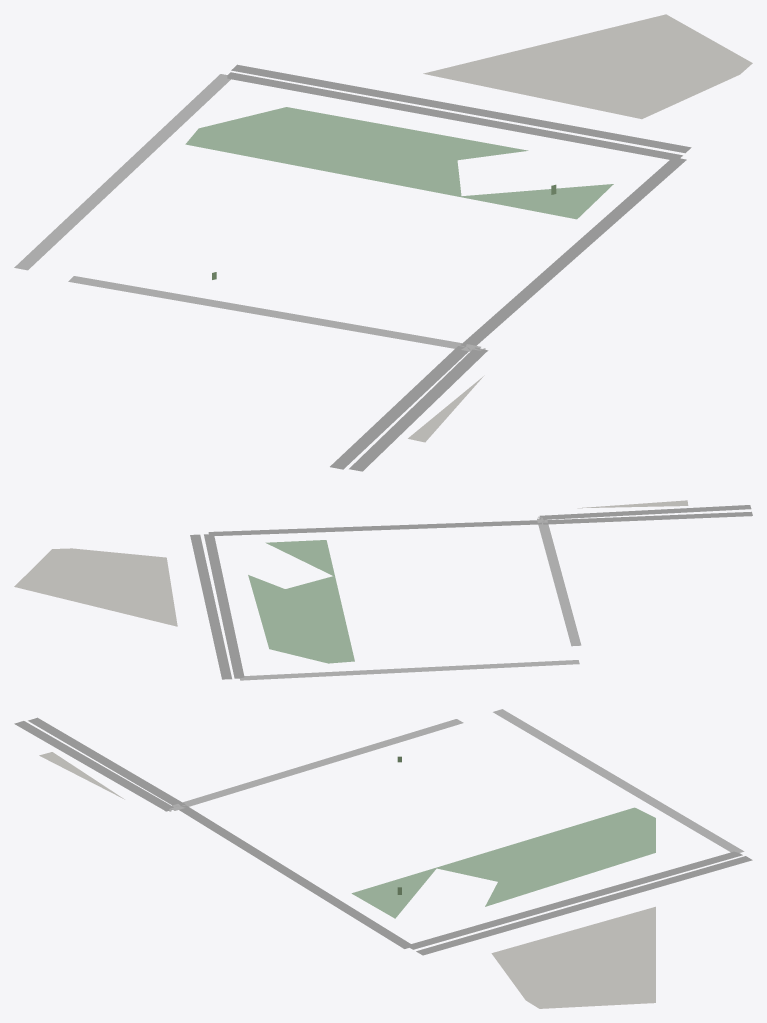
3 views of the same model, one above another, from view 1: azimuth 30°, elevation 25°; view 2: azimuth 150°, elevation 25°; view 3: azimuth 270°, elevation 25° (orthographic). The views are drawn at different scales.
Bounding box in the file's own units: 404 × 7.44 × 418.
